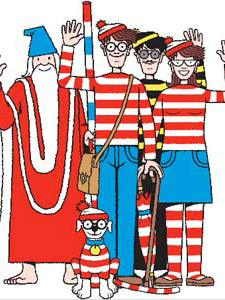waldo: (97, 20, 134, 68)
